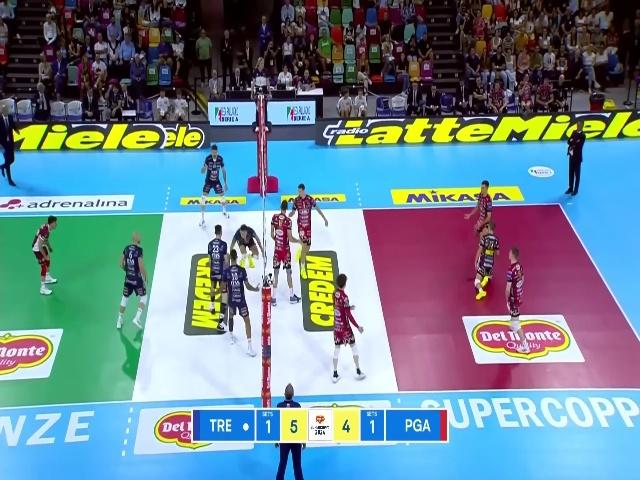volleyball court: (0, 202, 639, 397)
